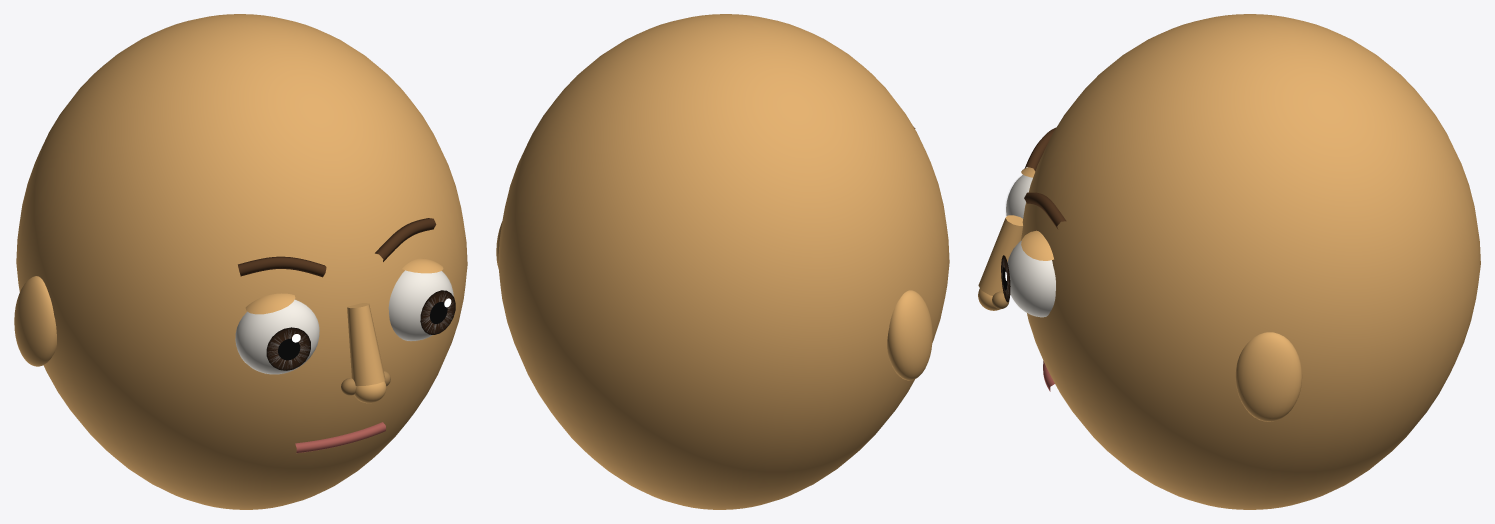
Rendered from 06-severes.glb.
3 views of the same model, side by side, from view 1: azimuth 30°, elevation 25°; view 2: azimuth 150°, elevation 25°; view 3: azimuth 270°, elevation 25° (orthographic).
Size of the model in its own units: 0.3087 by 0.321 by 0.3166.
9 materials, 1 textured.
